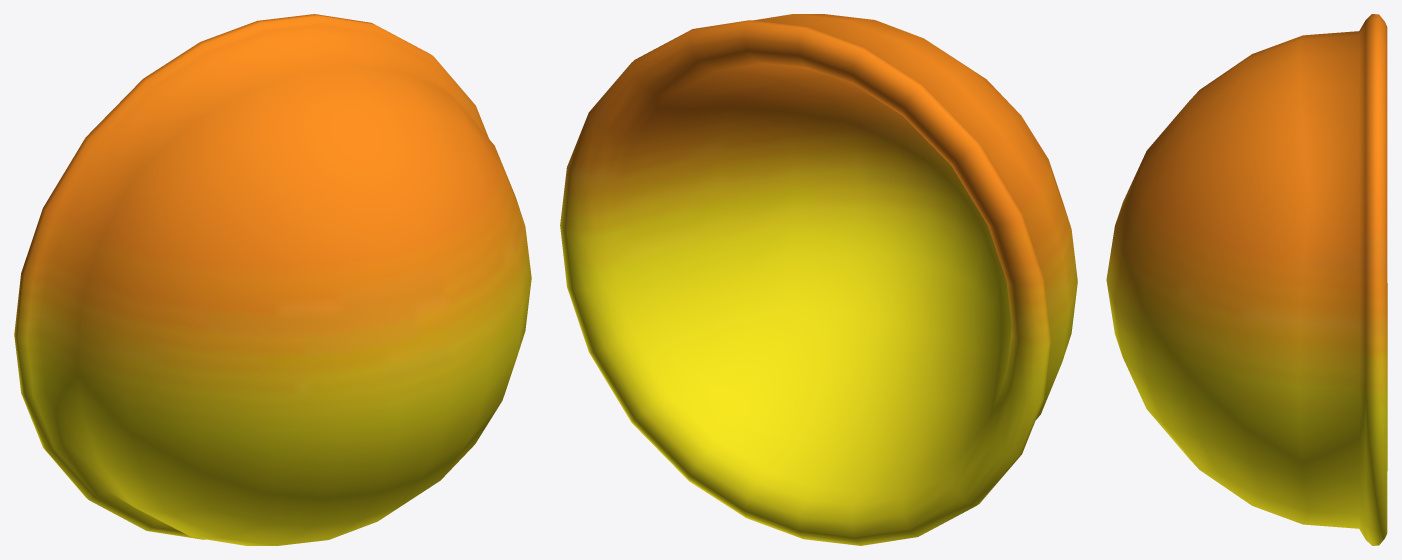
File: AmongUs_Cut_07_Pupka_001_0.FBX
3 views of the same model, side by side, from view 1: azimuth 30°, elevation 25°; view 2: azimuth 150°, elevation 25°; view 3: azimuth 270°, elevation 25° (orthographic). The views are drawn at different scales.
Parts seen in each view (by area): view 1: AmongUs_Cut_07_Pupka_001_0; view 2: AmongUs_Cut_07_Pupka_001_0; view 3: AmongUs_Cut_07_Pupka_001_0.
Boxes of the visible parts, x1,y1,x2,y2 form: AmongUs_Cut_07_Pupka_001_0: (14,14,531,545); AmongUs_Cut_07_Pupka_001_0: (560,14,1077,545); AmongUs_Cut_07_Pupka_001_0: (1106,14,1387,545).
Size of the model in its own units: 0.7857 by 0.4145 by 0.7857.
